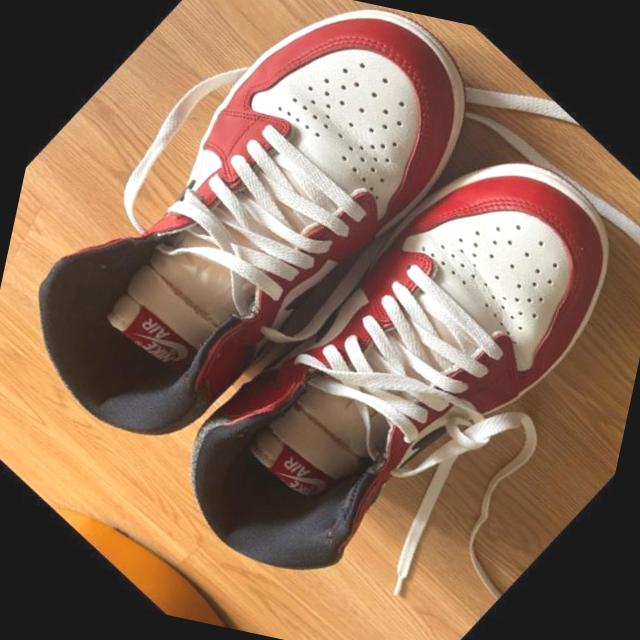nike_original_jordan: (123, 48, 640, 640), (0, 0, 527, 536)
